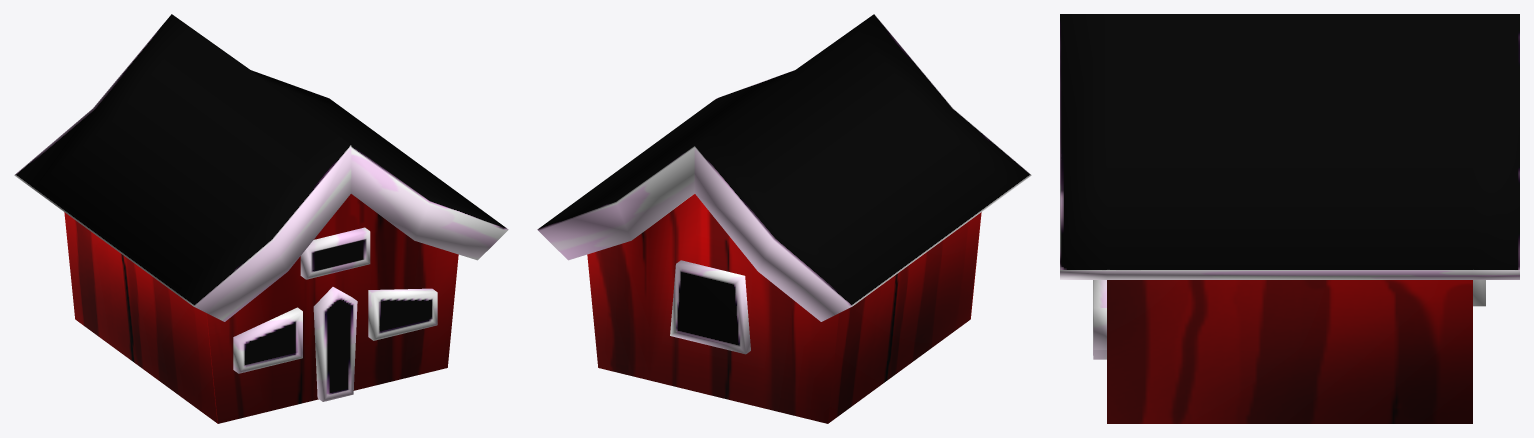
Rendered from SM_TinyHouse_02.fbx.
3 renders of one model, left to right at view 1: azimuth 30°, elevation 25°; view 2: azimuth 150°, elevation 25°; view 3: azimuth 270°, elevation 25°, orthographic. The views are drawn at different scales.
Parts seen in each view (by area): view 1: HouseJoined; view 2: HouseJoined; view 3: HouseJoined.
Part boxes in pixels (left/top/right/bottom): HouseJoined: left=14, top=14, right=508, bottom=423; HouseJoined: left=537, top=14, right=1031, bottom=423; HouseJoined: left=1060, top=14, right=1519, bottom=423.
Bounding box in the file's own units: 75.22 × 60.19 × 74.17.
